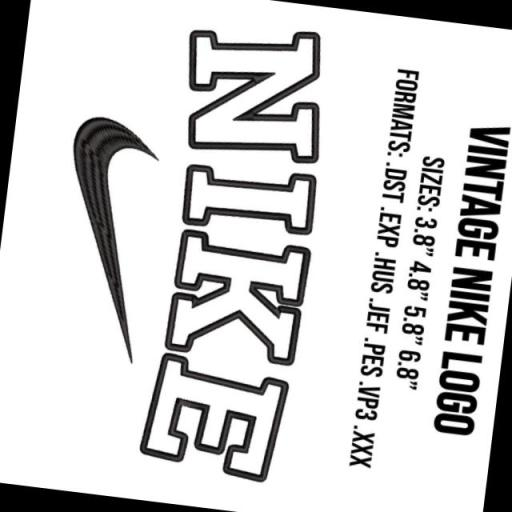Nike: (44, 112, 160, 368)
